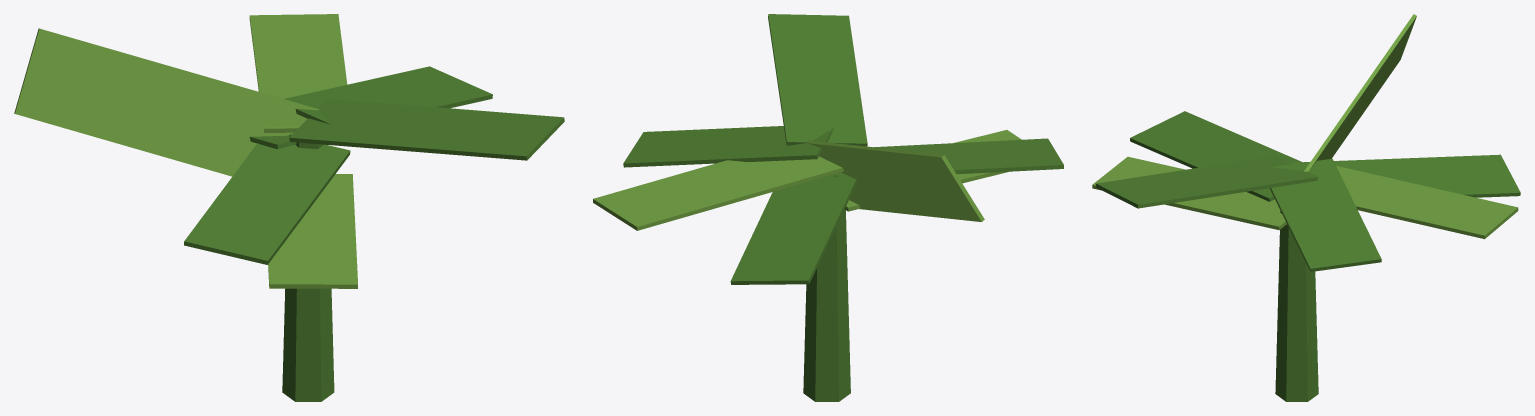
The model's file is bananplanta_2.glb.
3 views of the same model, side by side, from view 1: azimuth 30°, elevation 25°; view 2: azimuth 150°, elevation 25°; view 3: azimuth 270°, elevation 25° (orthographic). The views are drawn at different scales.
Parts seen in each view (by area): view 1: bananplanta_2; view 2: bananplanta_2; view 3: bananplanta_2.
Boxes of the visible parts, x1,y1,x2,y2 form: bananplanta_2: [14, 14, 564, 401]; bananplanta_2: [593, 14, 1063, 401]; bananplanta_2: [1092, 14, 1520, 401].
Size of the model in its own units: 4.15 by 3.36 by 4.36.
